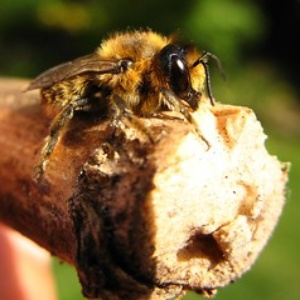bee: (28, 25, 228, 134)
